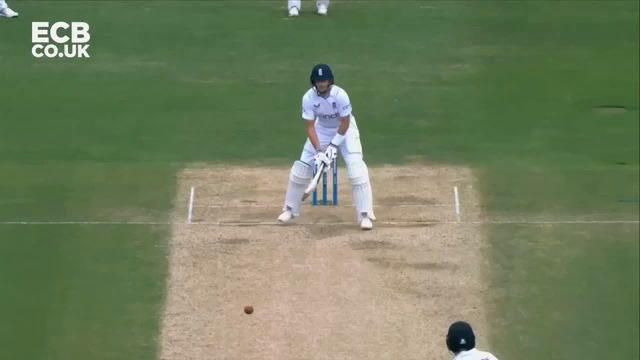batsman: (277, 62, 375, 231)
